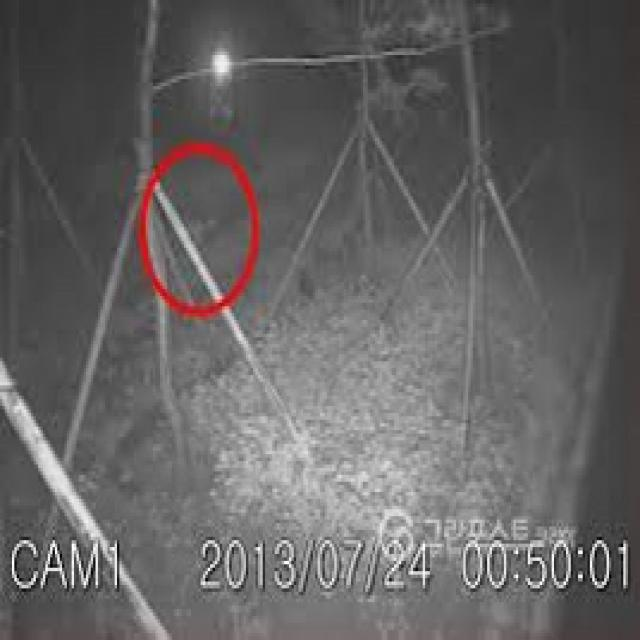elk: (155, 161, 225, 281)
